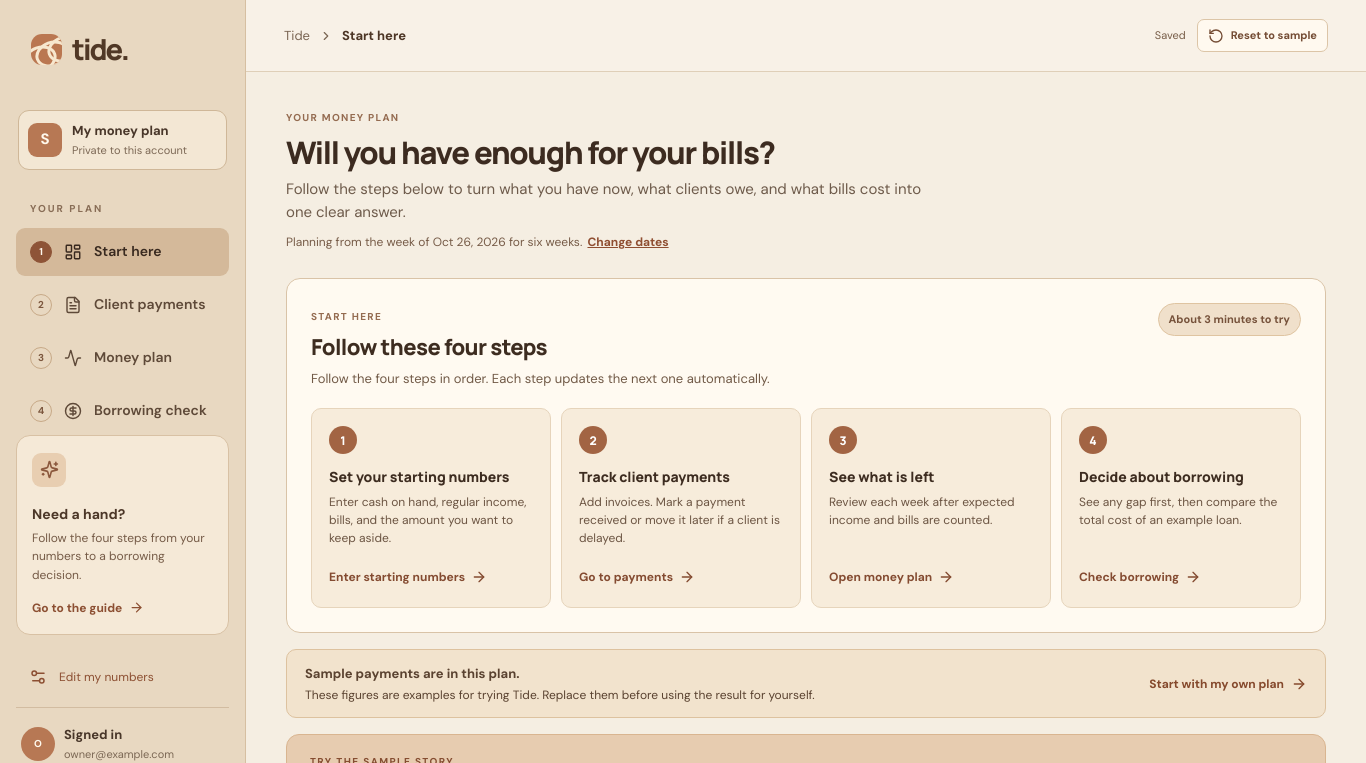
Test: connected dashboard actions › guides a new user from sample data to an honest empty plan
Click the button "Start with my own plan": (1228, 684) left=1149, top=675, right=1307, bottom=693
(page scrolled)
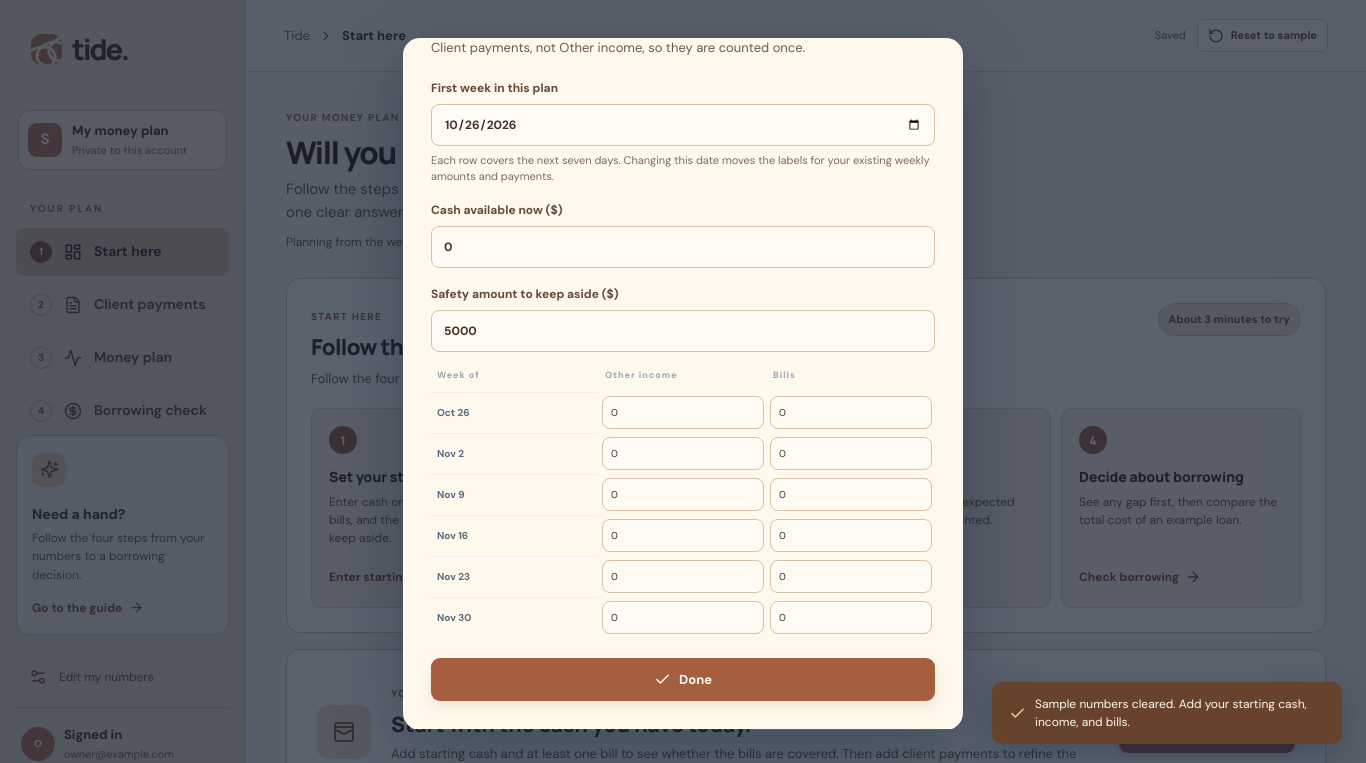
Click the button "Done": (683, 679) left=431, top=658, right=935, bottom=701
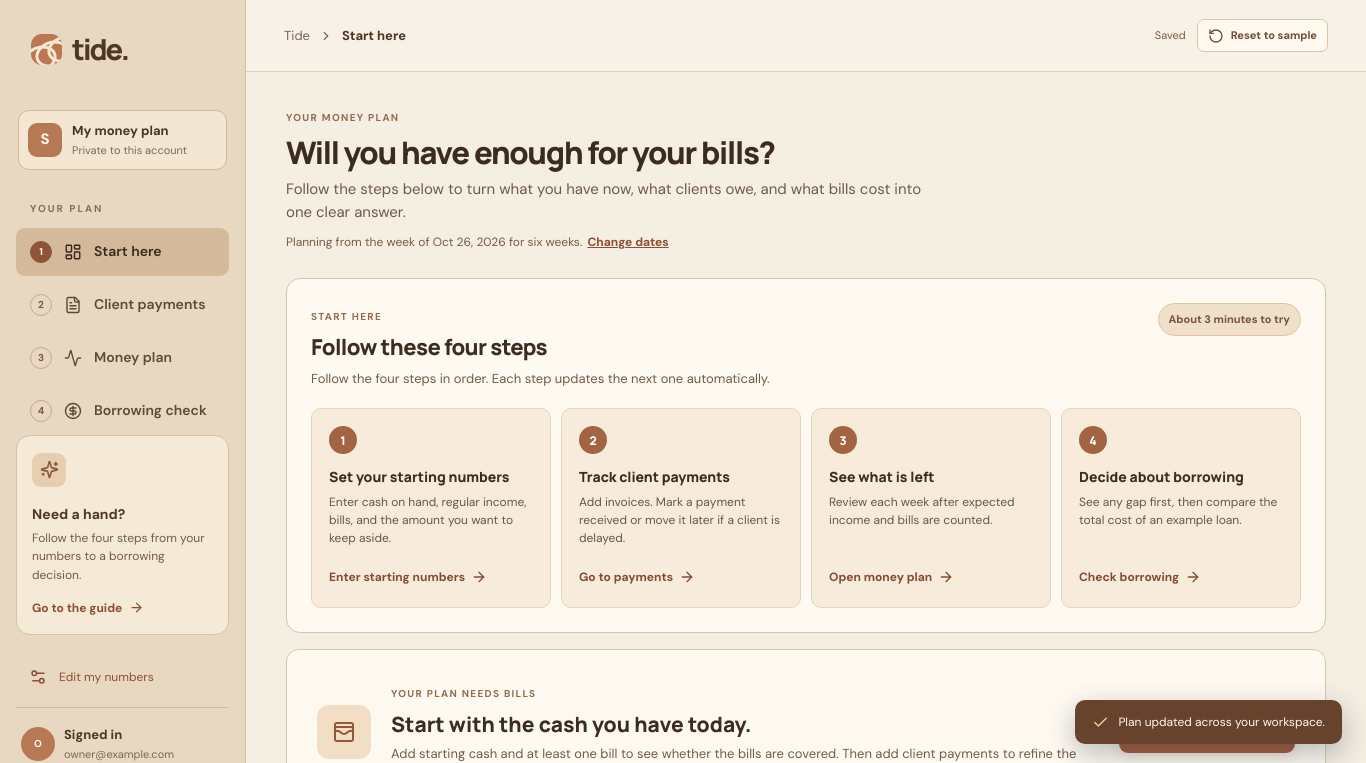
Result: the heading "Start with the cash you have today." is shown at left=391, top=710, right=752, bottom=738
Click the button "4 Borrowing check": (122, 410) left=16, top=386, right=229, bottom=434
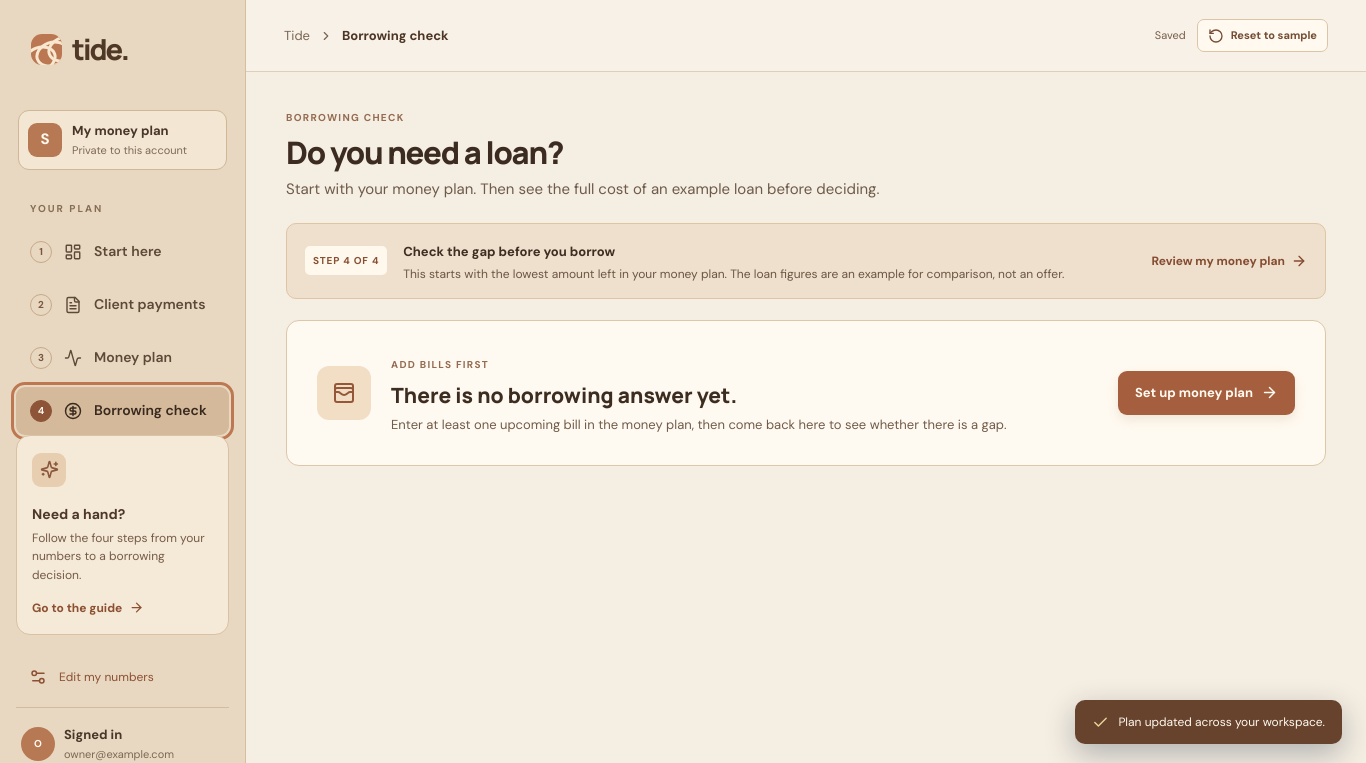
Result: the heading "There is no borrowing answer yet." is shown at left=391, top=381, right=737, bottom=409
